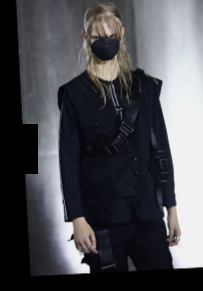with_mask: (88, 30, 122, 61)
